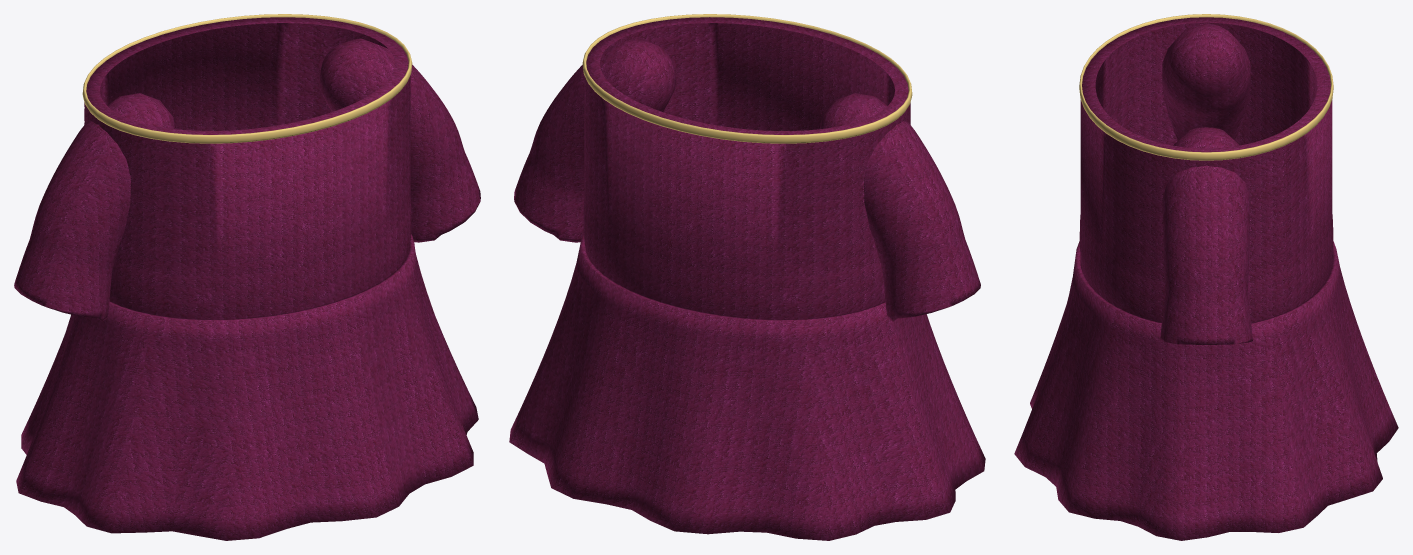
File: abaya4.fbx
3 views of the same model, side by side, from view 1: azimuth 30°, elevation 25°; view 2: azimuth 150°, elevation 25°; view 3: azimuth 270°, elevation 25° (orthographic). The views are drawn at different scales.
Visible parts, largest first — view 1: abaya4; view 2: abaya4; view 3: abaya4.
Boxes of the visible parts, x1,y1,x2,y2 form: abaya4: (14,14,480,540); abaya4: (509,14,985,540); abaya4: (1014,14,1398,540).
Size of the model in its own units: 1.3 by 1.05 by 1.01.
Materials: 2 (1 with a texture image).
